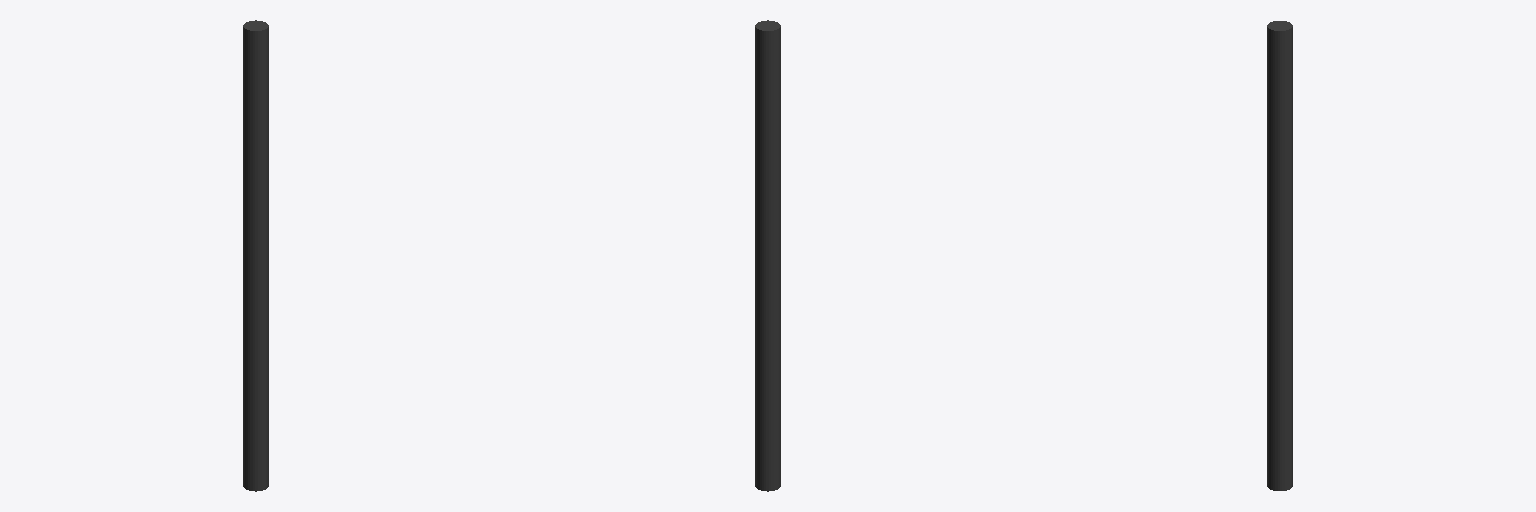
robot.urdf — pillar:
<?xml version='1.0' encoding='UTF-8'?>
<robot name="pillar">
    <link name="base_link">
        <inertial>
          <origin xyz="0.0 0.0 0.0" rpy="0.0 -0.0 0.0"/>
          <mass value="1.0"/>
          <inertia ixx="1.0" ixy="0.0" ixz="0.0" iyy="1.0" iyz="0.0" izz="1.0"/>
        </inertial>
        <visual name="base_link_visual">
            <origin xyz="0 0 0" rpy="0 0 0"/>
            <geometry>
                <cylinder radius="0.2" length="8"/>
            </geometry>
            <material name="base_link_color">
              <color rgba="0.3 0.3 0.3 1"/>
            </material>
        </visual>
        <collision name="base_link_collision">
            <origin xyz="0 0 0" rpy="0 0 0"/>
            <geometry>
                <cylinder radius="0.2" length="8"/>
            </geometry>
        </collision>
    </link>
</robot>

--- What the picture shows (computed from the rendered views, not written in the file) ---
The picture shows the robot from 3 angles, left to right: view 1: azimuth 30°, elevation 25°; view 2: azimuth 150°, elevation 25°; view 3: azimuth 270°, elevation 25°; orthographic projection.
Robot: pillar — 1 links, 0 joints (none); root link base_link; default pose: all joints at 0.
Links seen in each view (by area): view 1: base_link; view 2: base_link; view 3: base_link.
Boxes of the visible links, box(x1,y1,x2,y2) form: base_link: box(243, 20, 268, 491); base_link: box(755, 20, 780, 491); base_link: box(1267, 21, 1292, 490).
Size in the robot's own frame: 0.4 by 0.4 by 8 metres.
Geometry: primitives only (box / cylinder / sphere), no mesh files.